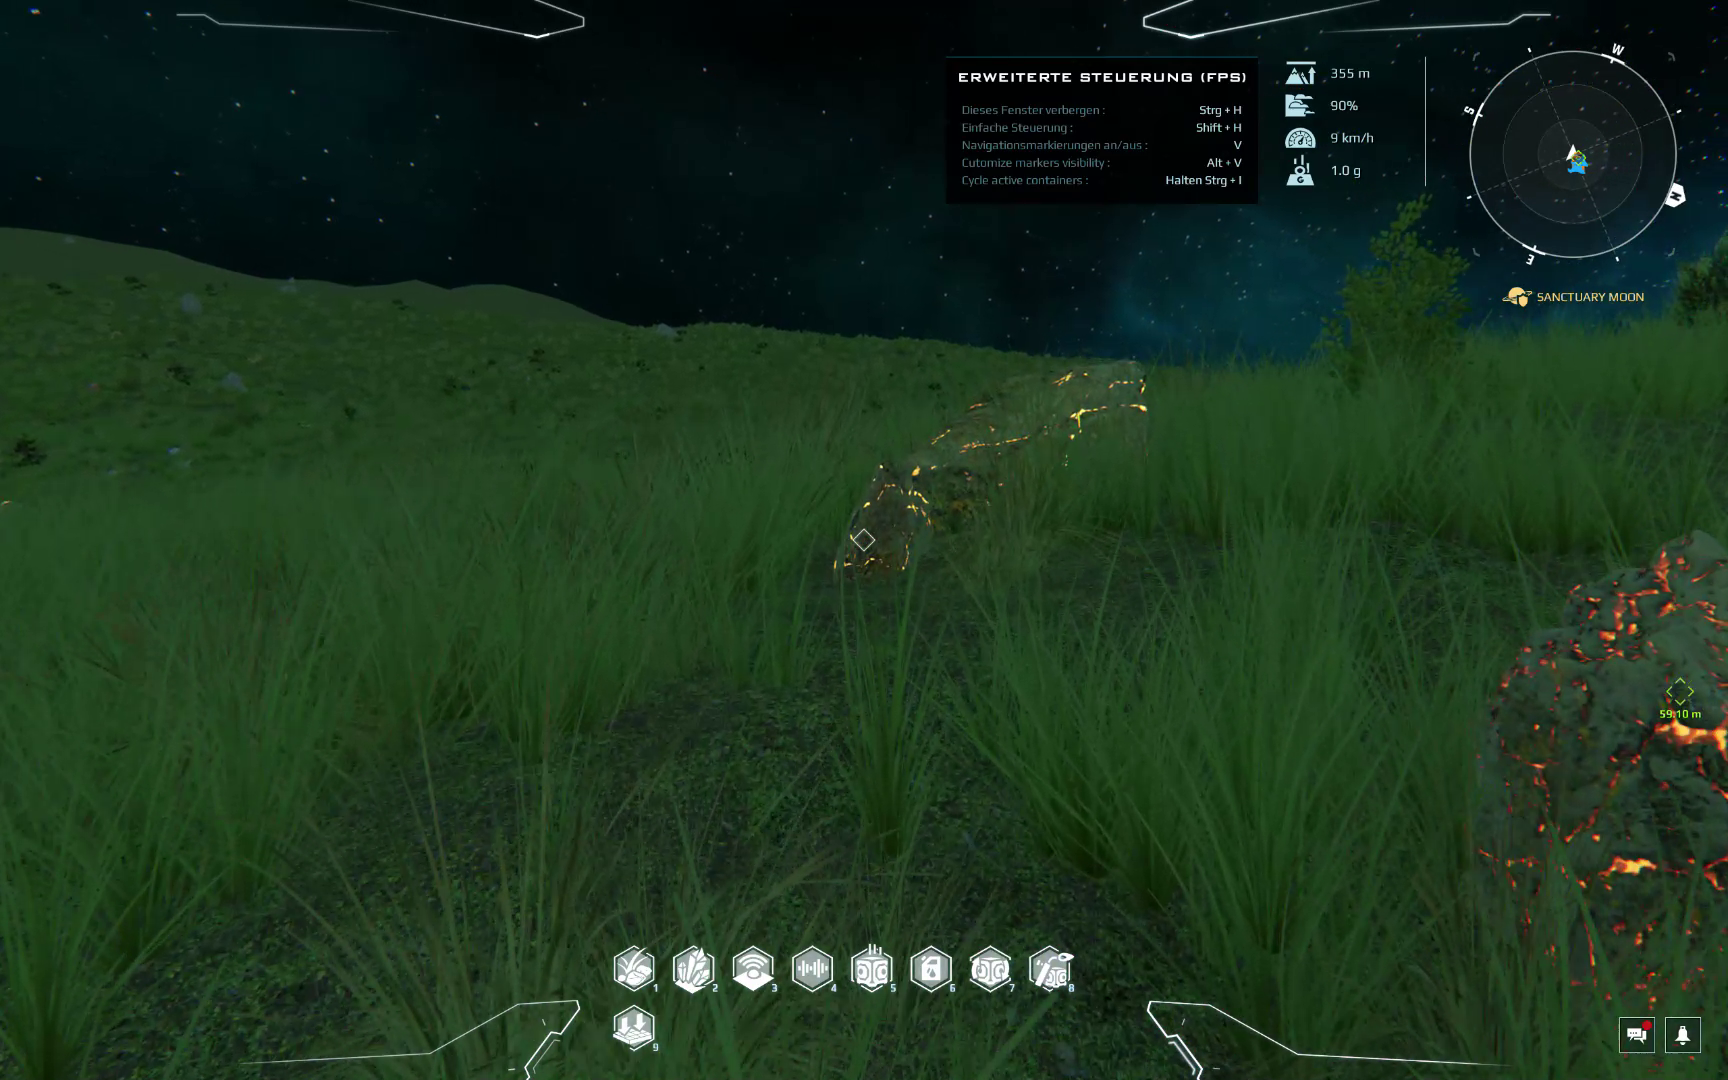Ore: (1451, 529, 1728, 1039), (926, 356, 1151, 503), (824, 447, 1021, 582)
